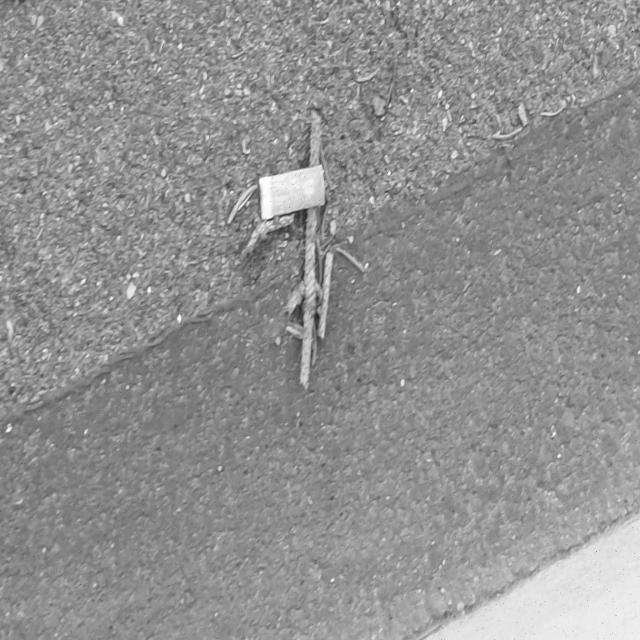other waste: (258, 163, 326, 221)
